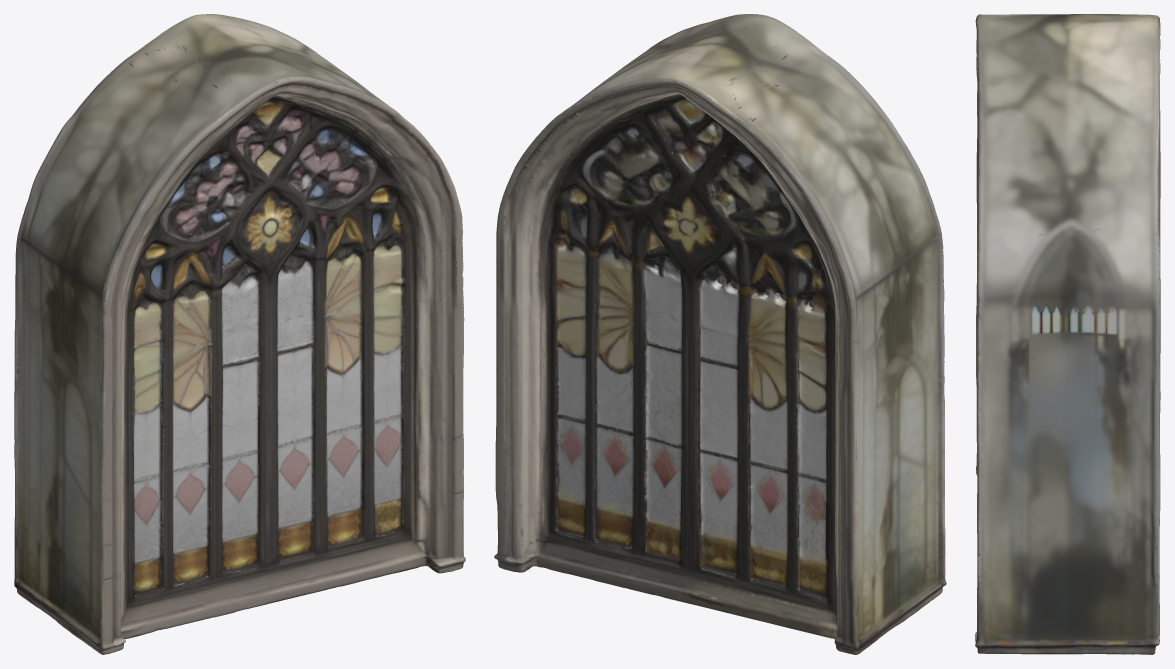
3 views of the same model, side by side, from view 1: azimuth 30°, elevation 25°; view 2: azimuth 150°, elevation 25°; view 3: azimuth 270°, elevation 25° (orthographic).
Visible parts, largest first — view 1: Mesh_0; view 2: Mesh_0; view 3: Mesh_0.
Part boxes in pixels (left/top/right/bottom): Mesh_0: left=14, top=14, right=465, bottom=654; Mesh_0: left=494, top=14, right=946, bottom=654; Mesh_0: left=975, top=14, right=1160, bottom=654.
Size of the model in its own units: 144 by 201 by 62.12.
Materials: 1 (1 with a texture image).
